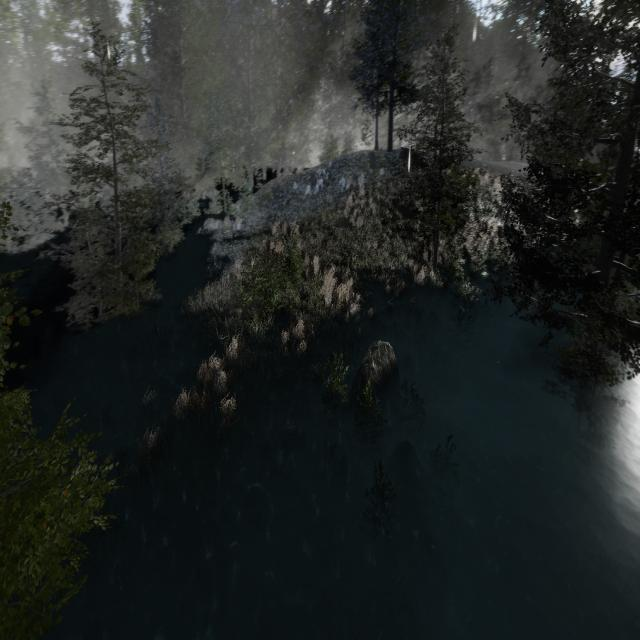Human: (303, 320, 317, 350)
